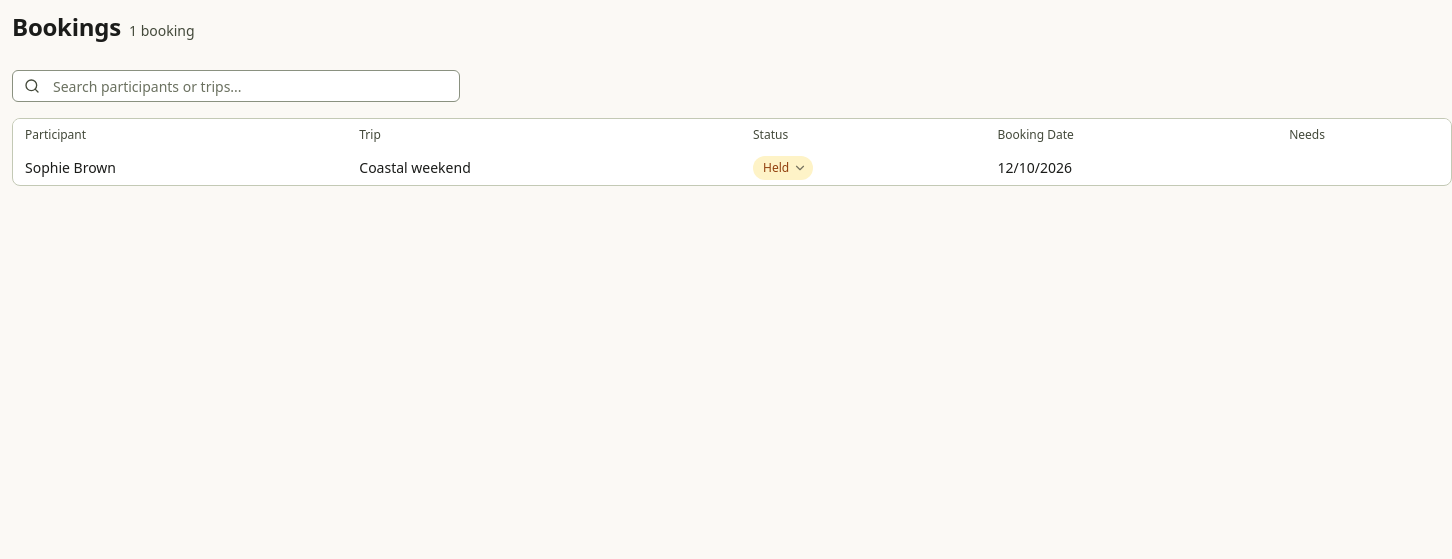
Test case: BookingsPage — the budget warning of a booking just confirmed › goes away when the next status change starts, so a stale warning never sits beside a different booking
Click the button "Held". click: (783, 168)
box: x1=753 y1=156 x2=813 y2=180
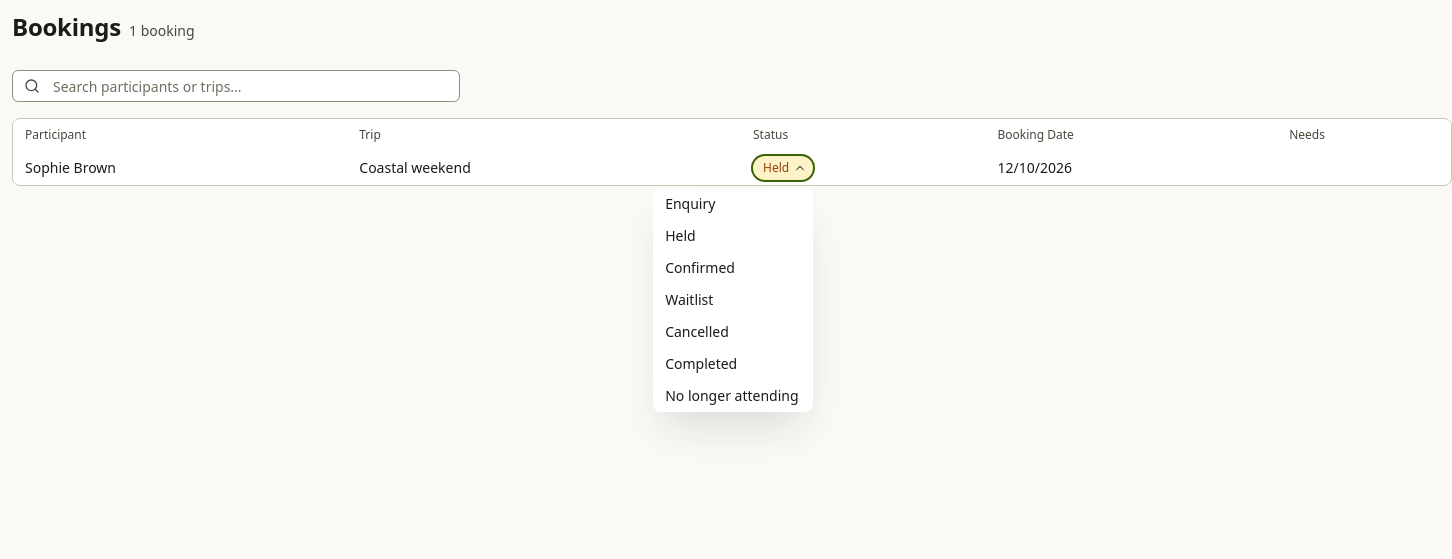
Click the option "Confirmed". click: (700, 268)
box: x1=665 y1=258 x2=735 y2=277
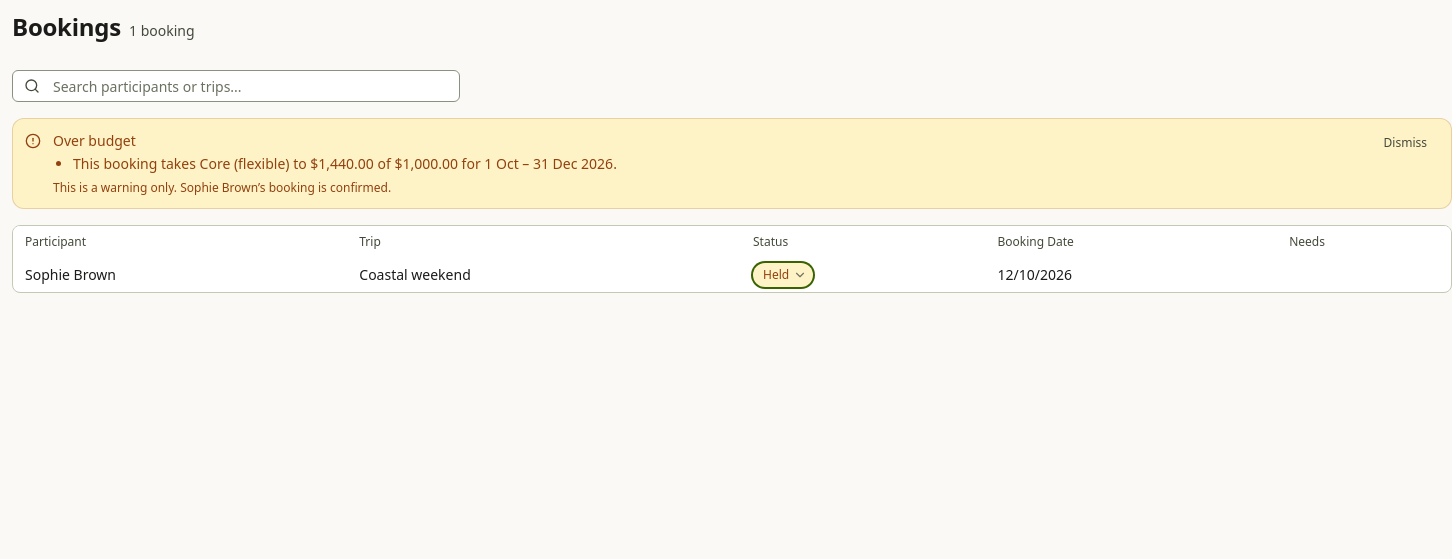
Click the button "Held". click: (783, 274)
box: x1=753 y1=262 x2=813 y2=286
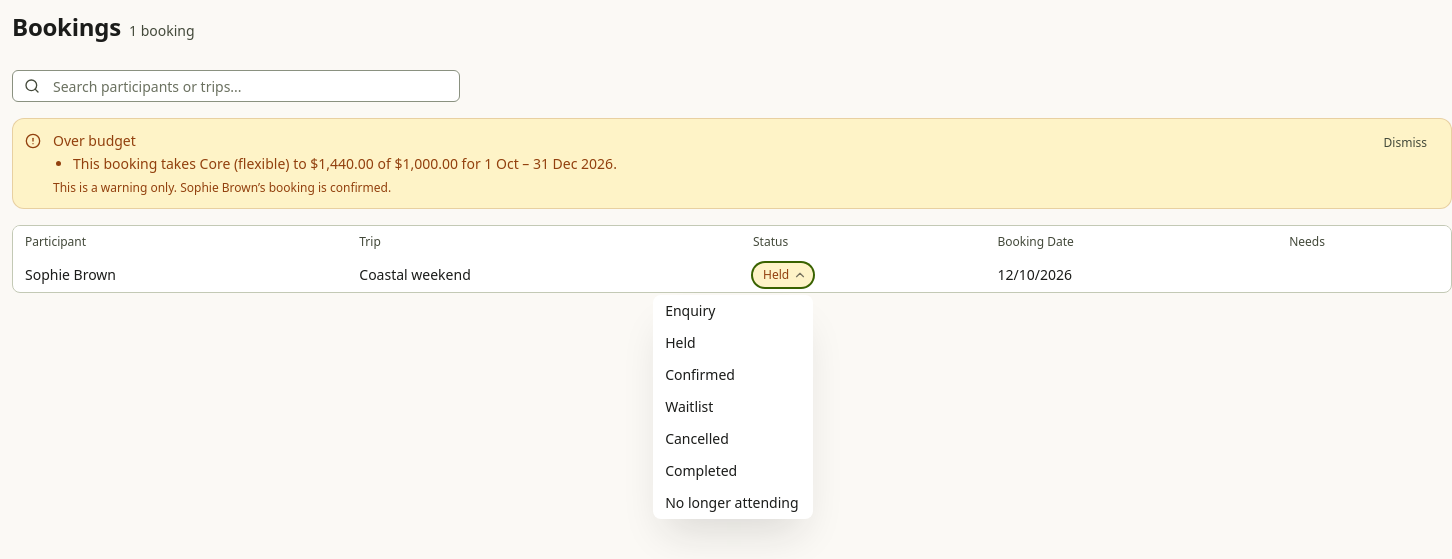
Click the option "Waitlist". click: (689, 406)
box: x1=665 y1=396 x2=713 y2=416
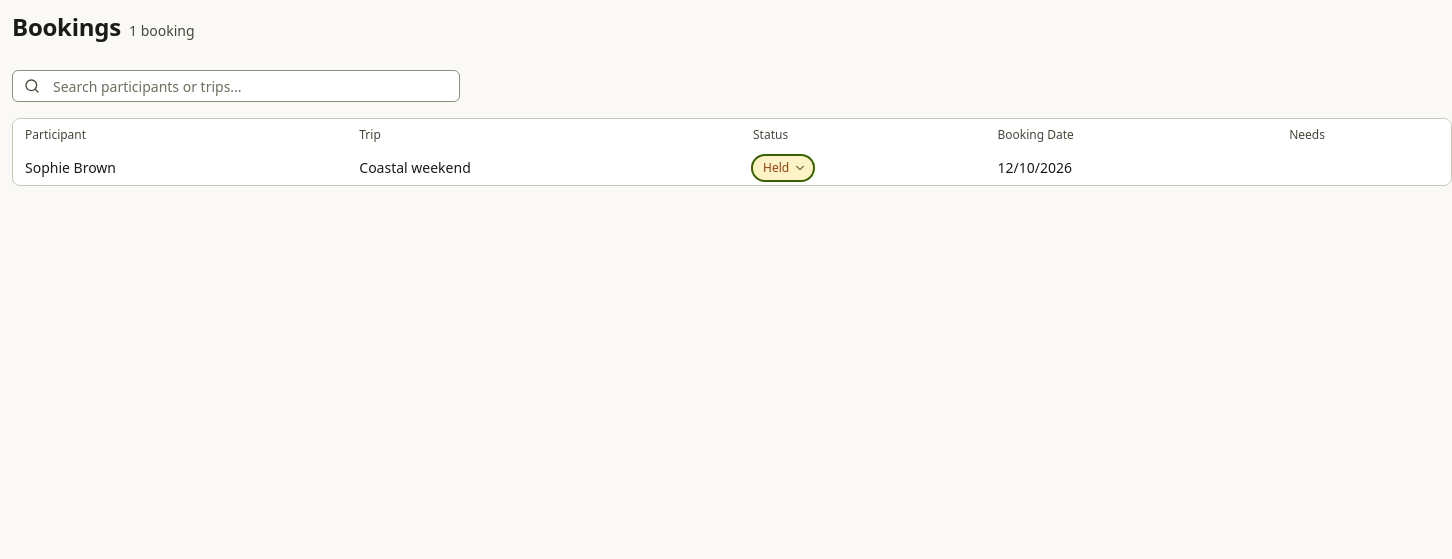
expect the text "Over budget" is gone: met
